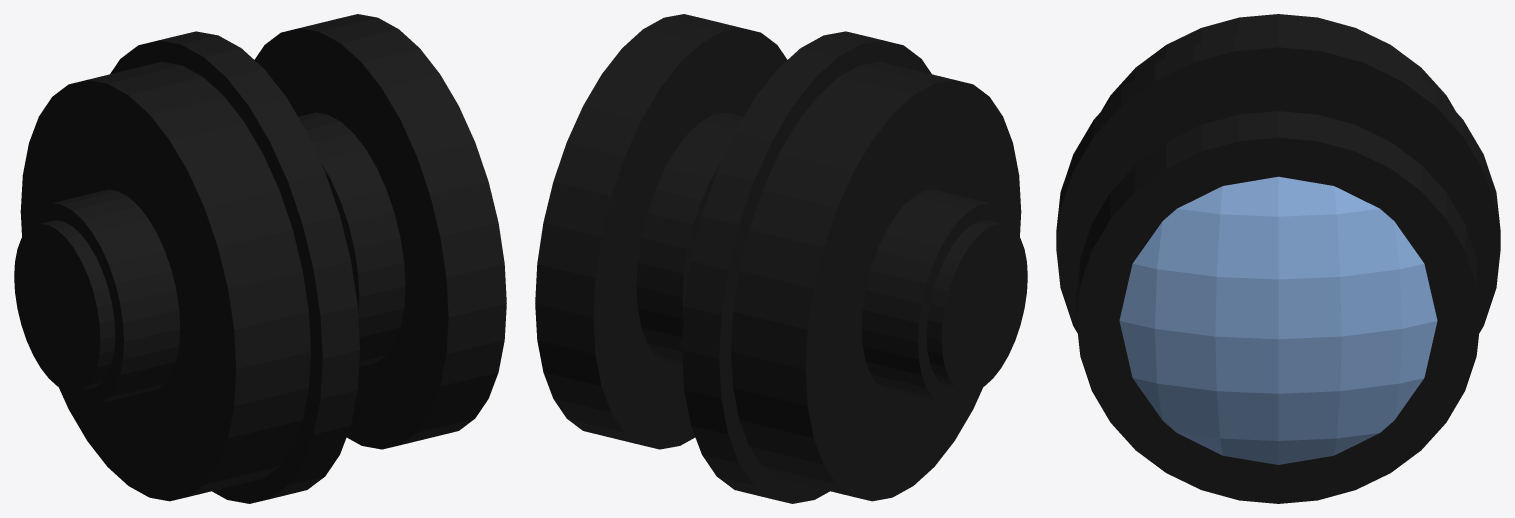
Rendered from evetar_fisheye_lens.dae.
3 views of the same model, side by side, from view 1: azimuth 30°, elevation 25°; view 2: azimuth 150°, elevation 25°; view 3: azimuth 270°, elevation 25° (orthographic). The views are drawn at different scales.
Parts seen in each view (by area): view 1: Cylinder, Cylinder.003; view 2: Cylinder, Cylinder.003; view 3: Sphere, Cylinder.003, Cylinder.
Part boxes in pixels (x1,y1,x2,y2): Cylinder: (20,31,359,503); Cylinder.003: (14,14,506,449); Cylinder: (682,31,1021,503); Cylinder.003: (535,14,1027,449); Sphere: (1119,176,1437,464); Cylinder.003: (1076,111,1480,503); Cylinder: (1056,14,1500,332).
Bounding box in the file's own units: 0.0256 × 0.0275 × 0.0275.
